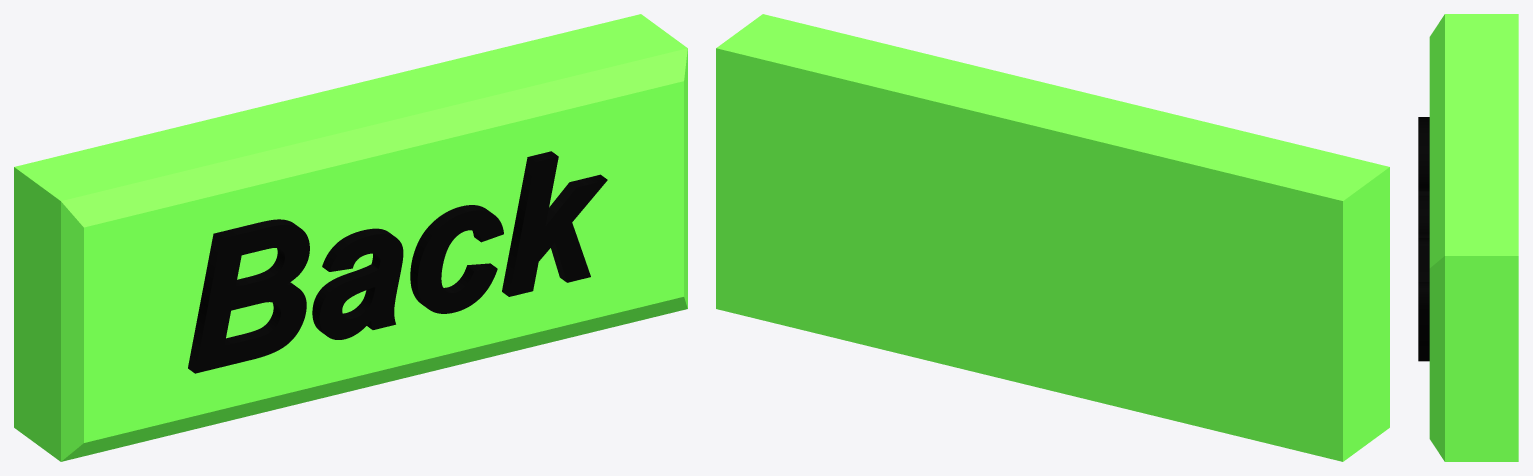
Rendered from Back_button.fbx.
3 renders of one model, left to right at view 1: azimuth 30°, elevation 25°; view 2: azimuth 150°, elevation 25°; view 3: azimuth 270°, elevation 25°, orthographic. The views are drawn at different scales.
Parts seen in each view (by area): view 1: Back_Button; view 2: Back_Button; view 3: Back_Button.
Part boxes in pixels (bbox=[...]): Back_Button: bbox=[14, 14, 687, 461]; Back_Button: bbox=[716, 14, 1389, 461]; Back_Button: bbox=[1418, 14, 1518, 461].
Bounding box in the file's own units: 474 × 188 × 83.27.
